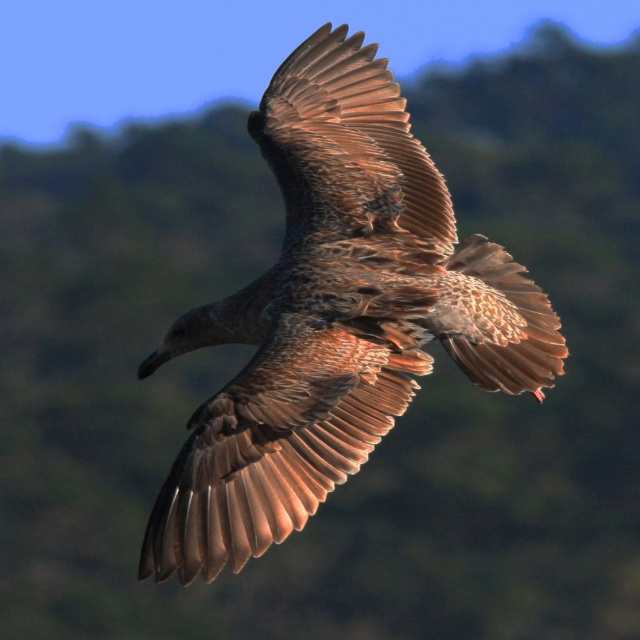Eagle: (137, 22, 571, 588)
